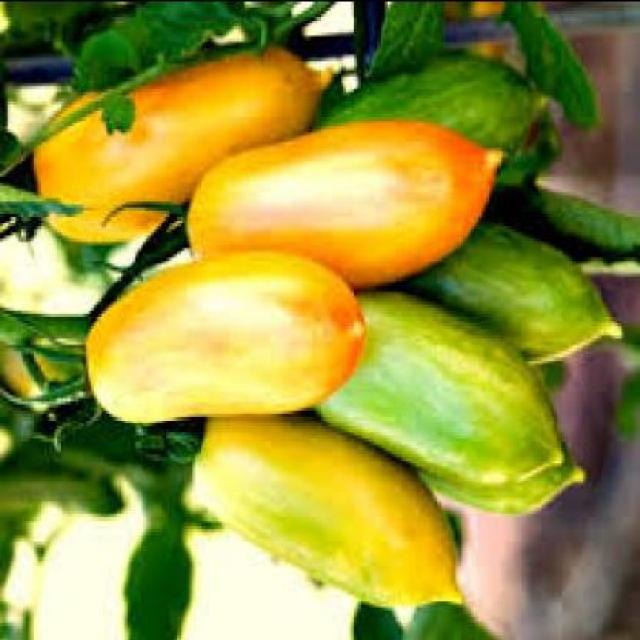BIODEGRADABLE: (32, 44, 333, 247), (185, 125, 508, 297), (187, 418, 461, 610), (76, 252, 362, 428), (313, 293, 562, 490), (395, 214, 620, 366), (307, 58, 541, 197), (408, 437, 583, 518)
